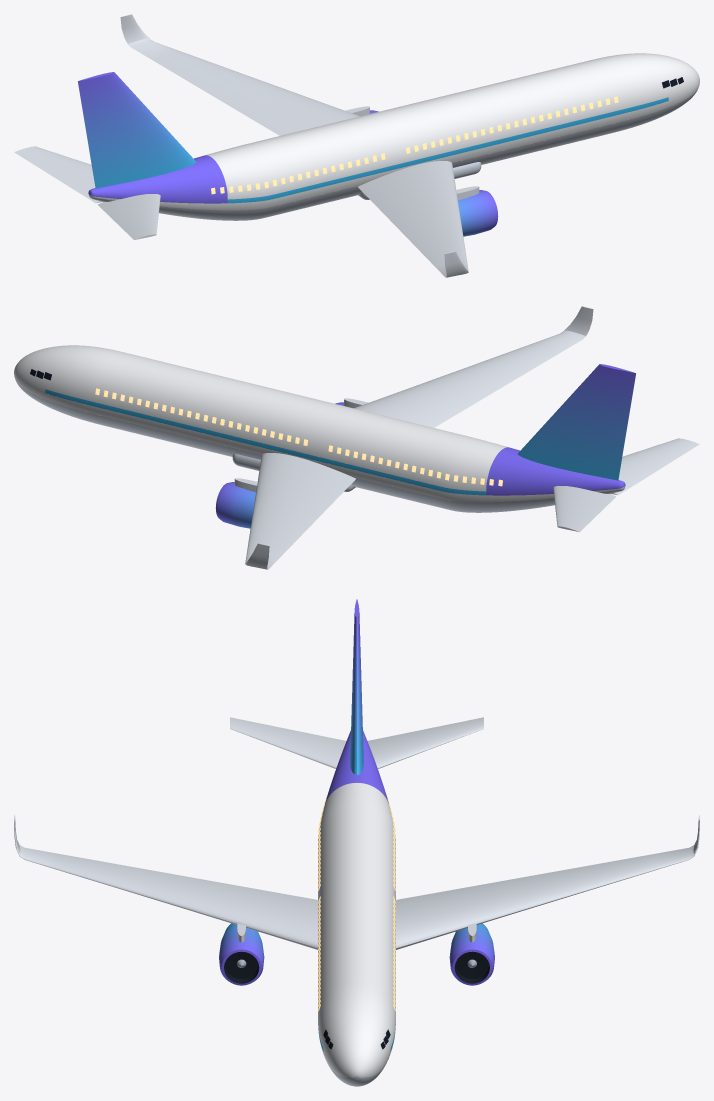
The model's file is airliner.glb.
The picture shows the model from 3 angles, top to bottom: view 1: azimuth 30°, elevation 25°; view 2: azimuth 150°, elevation 25°; view 3: azimuth 270°, elevation 25°; orthographic projection. The views are drawn at different scales.
Parts seen in each view (by area): view 1: Airliner; view 2: Airliner; view 3: Airliner.
Boxes of the visible parts, x1,y1,x2,y2 form: Airliner: (14, 14, 699, 277); Airliner: (14, 306, 699, 569); Airliner: (14, 599, 699, 1086).
Bounding box in the file's own units: 39 × 11.61 × 35.08.
